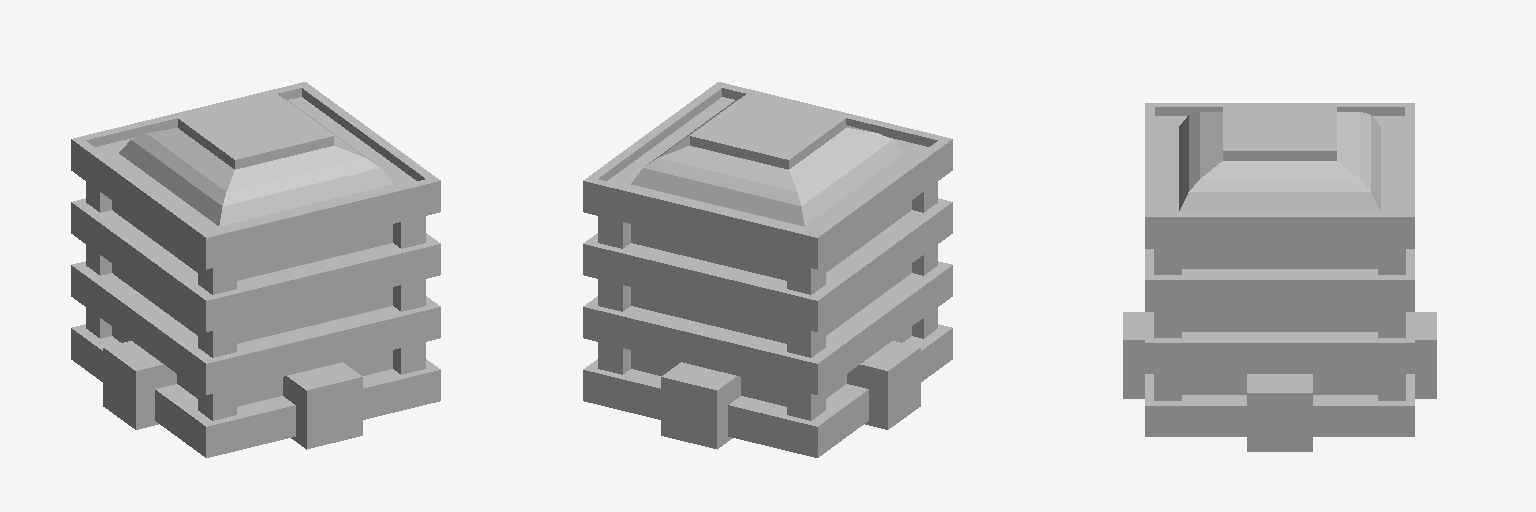
The model's file is house.obj.
3 views of the same model, side by side, from view 1: azimuth 30°, elevation 25°; view 2: azimuth 150°, elevation 25°; view 3: azimuth 270°, elevation 25° (orthographic).
Visible parts, largest first — view 1: Cube, Cube.001, Cube.002; view 2: Cube, Cube.001, Cube.002; view 3: Cube, Cube.001, Cube.002.
Boxes of the visible parts, box(x1,y1,x2,y2) form: Cube: box(71, 82, 440, 457); Cube.001: box(103, 341, 362, 449); Cube.002: box(86, 182, 425, 420); Cube: box(583, 82, 952, 457); Cube.001: box(661, 341, 920, 449); Cube.002: box(598, 182, 937, 420); Cube: box(1145, 103, 1414, 436); Cube.001: box(1123, 312, 1436, 451); Cube.002: box(1154, 249, 1405, 400).
Size of the model in its own units: 2.33 by 2.1 by 2.33.